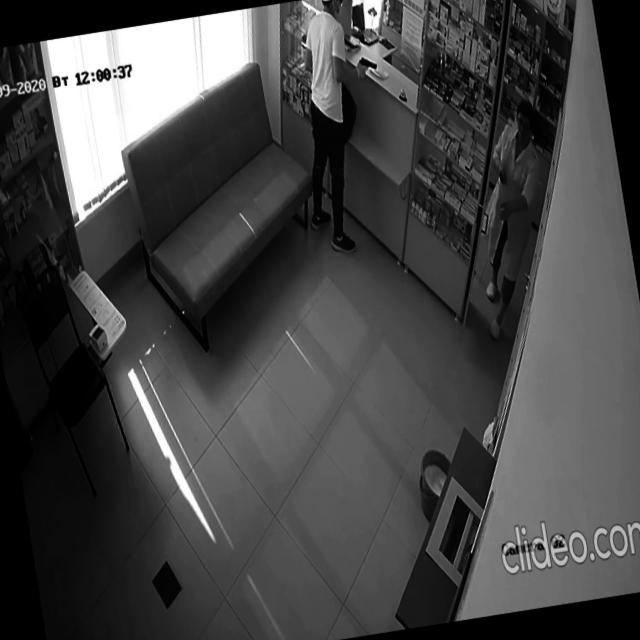gun: (358, 54, 378, 73)
person: (452, 95, 571, 346)
person with a gun: (275, 0, 406, 259)
